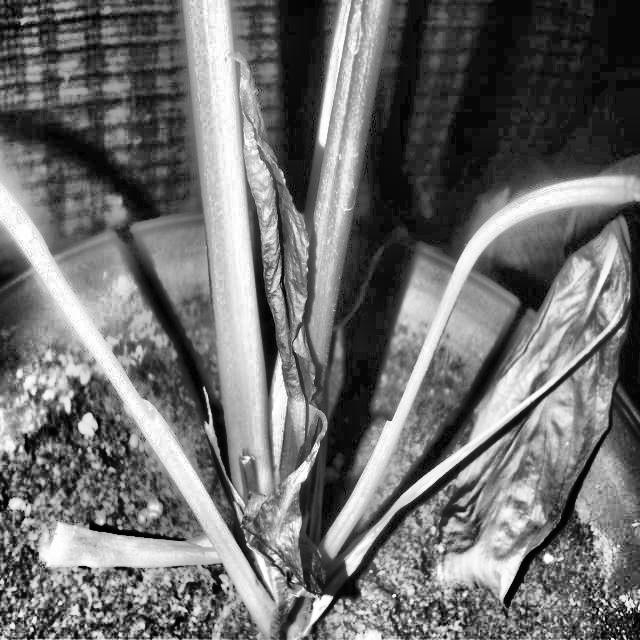plants: (217, 46, 373, 640), (438, 215, 636, 578)
